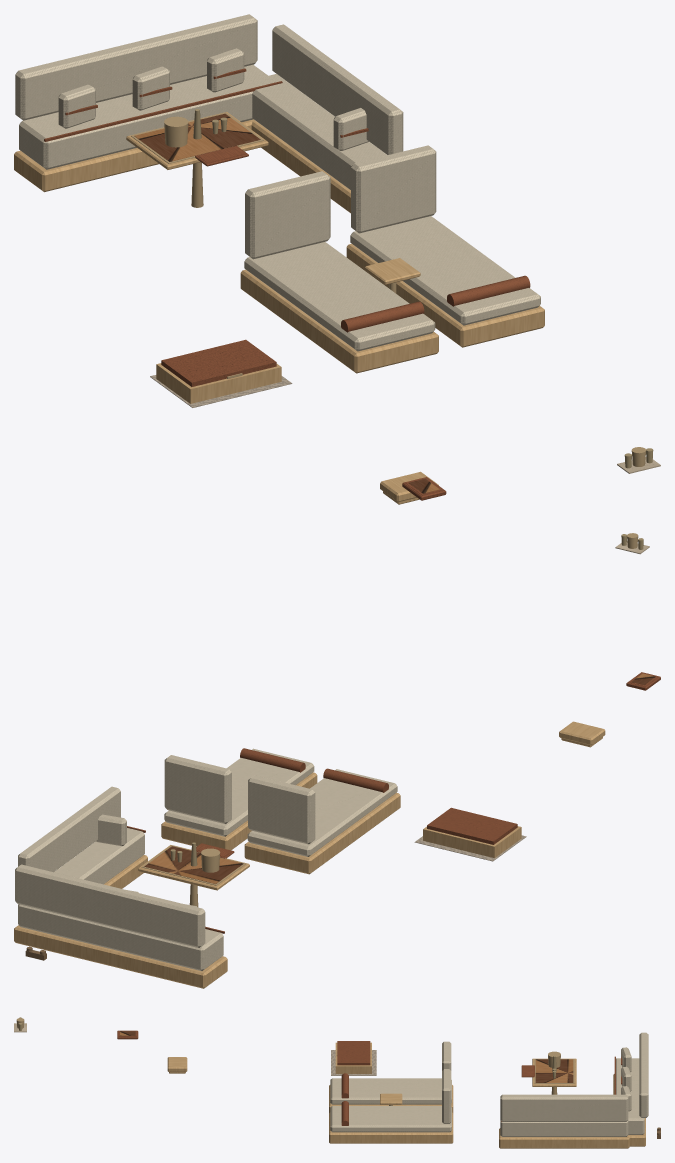
File: yacht_furniture_props.glb
3 views of the same model, one above another, from view 1: azimuth 30°, elevation 25°; view 2: azimuth 150°, elevation 25°; view 3: azimuth 270°, elevation 25° (orthographic). The views are drawn at different scales.
Parts seen in each view (by area): view 1: linen_parts, teak_parts, leather_parts, marq_parts, pvd_parts, piping_parts, rug_parts; view 2: linen_parts, teak_parts, leather_parts, marq_parts, pvd_parts; view 3: linen_parts, teak_parts, leather_parts, marq_parts, pvd_parts, rug_parts.
Boxes of the visible parts, <box> form: linen_parts: <box>15,14,540,351</box>; teak_parts: <box>14,112,544,504</box>; leather_parts: <box>161,145,530,500</box>; marq_parts: <box>134,113,439,493</box>; pvd_parts: <box>131,112,646,466</box>; piping_parts: <box>44,68,368,141</box>; rug_parts: <box>150,375,292,407</box>; linen_parts: <box>15,748,397,971</box>; teak_parts: <box>14,721,605,988</box>; leather_parts: <box>196,672,660,858</box>; marq_parts: <box>144,673,655,883</box>; pvd_parts: <box>141,533,638,907</box>; linen_parts: <box>330,1032,648,1136</box>; teak_parts: <box>167,1042,645,1148</box>; leather_parts: <box>117,1030,534,1125</box>; marq_parts: <box>120,1031,573,1082</box>; pvd_parts: <box>16,1018,574,1105</box>; rug_parts: <box>331,1050,376,1075</box>.
Bounding box in the file's own units: 3.5 × 1.26 × 9.9.
Materials: 11 (11 with a texture image).
